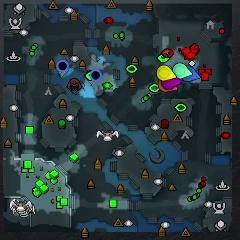p1: (181, 66, 200, 80)
p1Clone: (56, 59, 68, 73), (90, 69, 101, 81)
p2: (172, 62, 192, 79)
p3: (162, 76, 182, 89)
p4: (158, 66, 175, 80)
p5: (157, 80, 179, 92)
